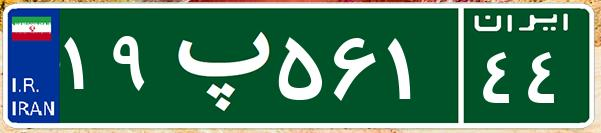1: (385, 28, 445, 110), (57, 26, 110, 107)
4: (475, 38, 525, 113), (525, 38, 570, 115)
5: (273, 28, 330, 110)
6: (330, 28, 385, 110)
9: (110, 28, 158, 105)
پ: (158, 15, 273, 115)
